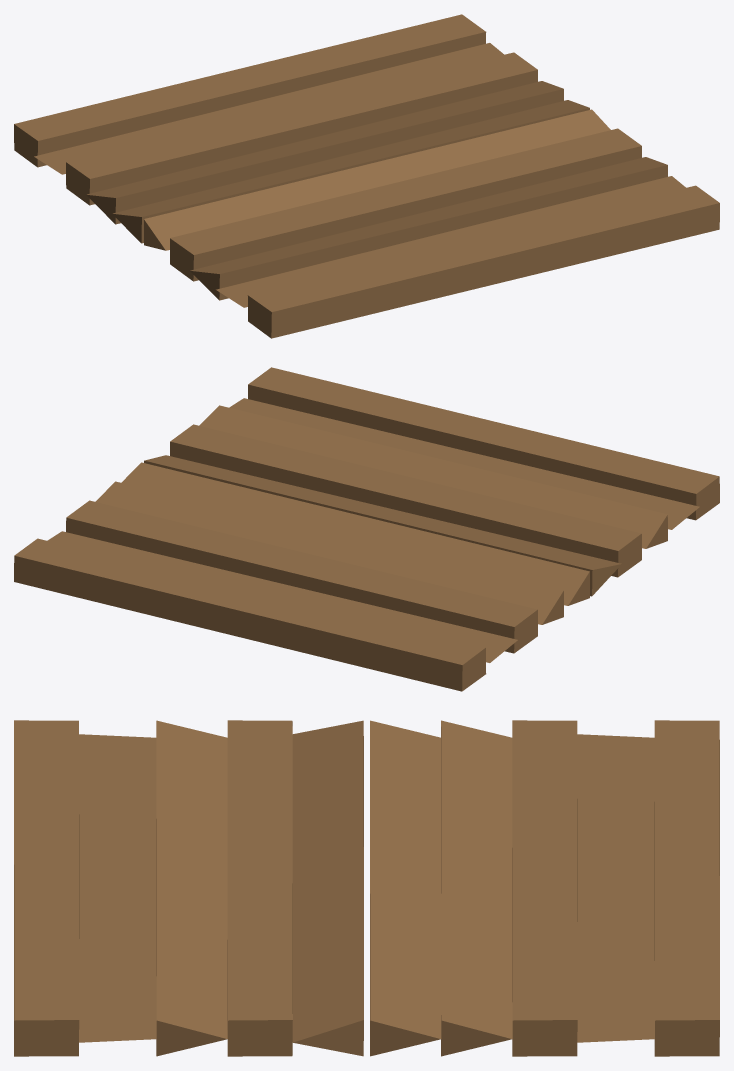
The model's file is harbor-floor.lod2.glb.
The picture shows the model from 3 angles, top to bottom: view 1: azimuth 30°, elevation 25°; view 2: azimuth 150°, elevation 25°; view 3: azimuth 270°, elevation 25°; orthographic projection. The views are drawn at different scales.
Visible parts, largest first — view 1: harbor-floor__body; view 2: harbor-floor__body; view 3: harbor-floor__body.
Part boxes in pixels (x1,y1,x2,y2): harbor-floor__body: (14, 14, 719, 338); harbor-floor__body: (14, 367, 719, 691); harbor-floor__body: (14, 720, 719, 1056).
Size of the model in its own units: 2.03 by 0.1133 by 1.98.
